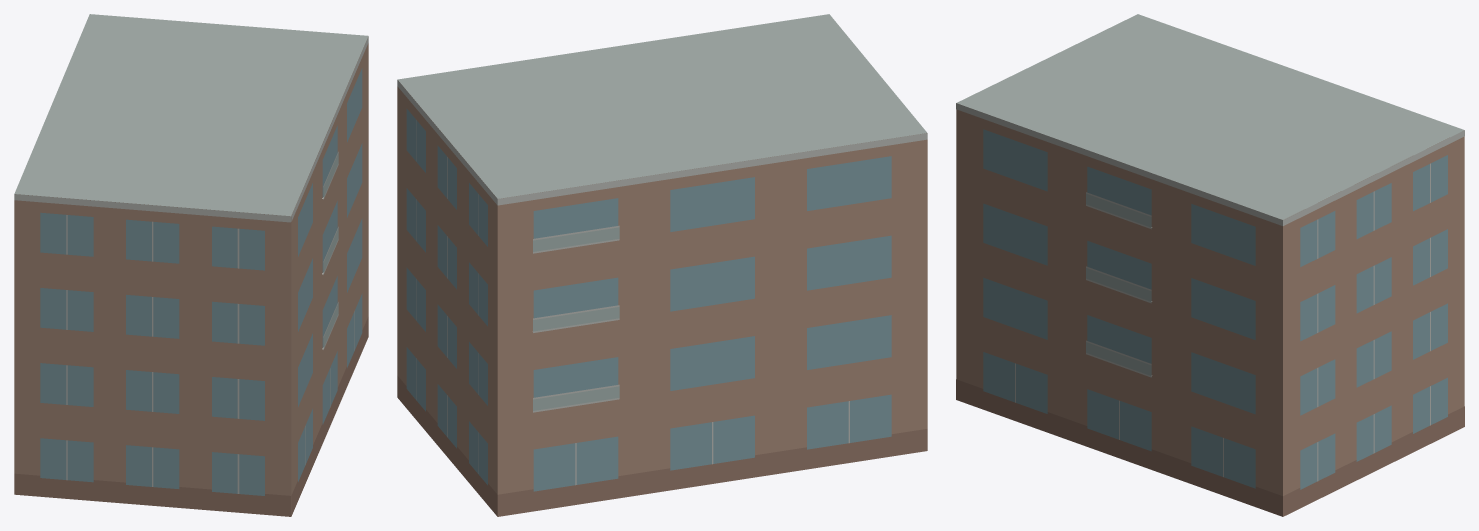
Rendered from survey-upis-32568487.glb.
3 views of the same model, side by side, from view 1: azimuth 30°, elevation 25°; view 2: azimuth 150°, elevation 25°; view 3: azimuth 270°, elevation 25° (orthographic). The views are drawn at different scales.
Parts seen in each view (by area): view 1: survey-upis-32568487.tmp; view 2: survey-upis-32568487.tmp; view 3: survey-upis-32568487.tmp.
Part boxes in pixels (box(x1,y1,x2,y2)): survey-upis-32568487.tmp: box(14, 14, 368, 516); survey-upis-32568487.tmp: box(397, 14, 927, 516); survey-upis-32568487.tmp: box(956, 14, 1464, 516).
Bounding box in the file's own units: 17.43 × 11.7 × 18.18.
